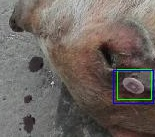text: (117, 69, 151, 99)
